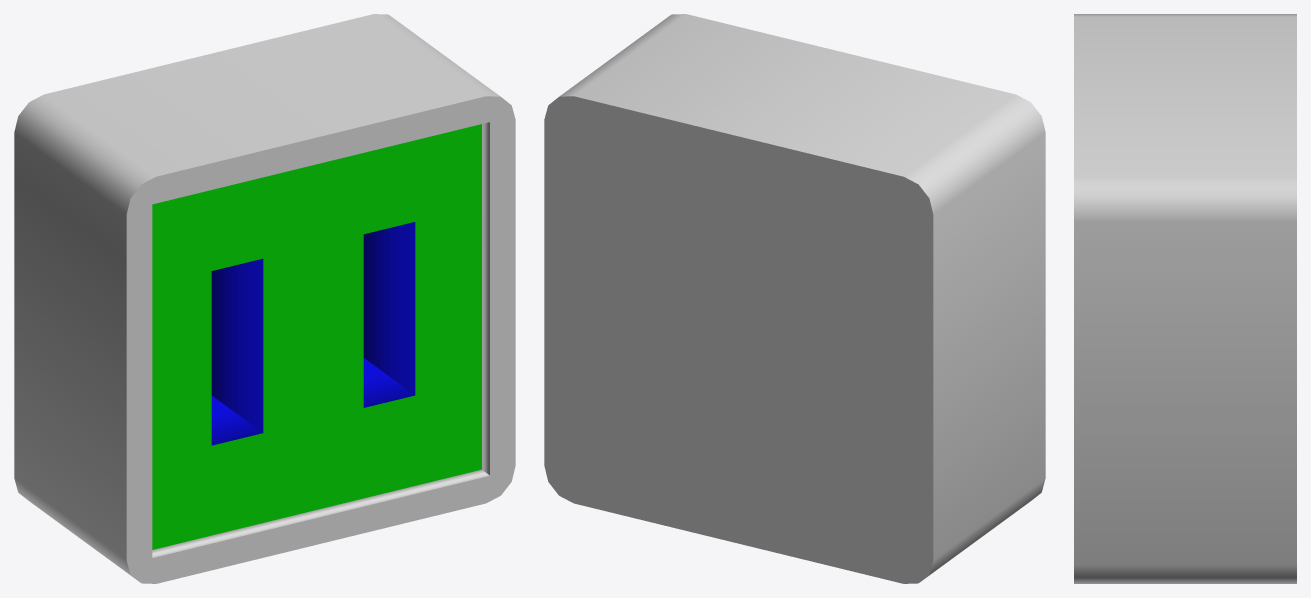
File: Socket.fbx
3 renders of one model, left to right at view 1: azimuth 30°, elevation 25°; view 2: azimuth 150°, elevation 25°; view 3: azimuth 270°, elevation 25°, orthographic.
Parts seen in each view (by area): view 1: Socket; view 2: Socket; view 3: Socket.
Part boxes in pixels (bbox=[...]): Socket: bbox=[14, 14, 515, 583]; Socket: bbox=[544, 14, 1045, 583]; Socket: bbox=[1074, 14, 1296, 583].
Size of the model in its own units: 32.13 by 32.13 by 16.07.
